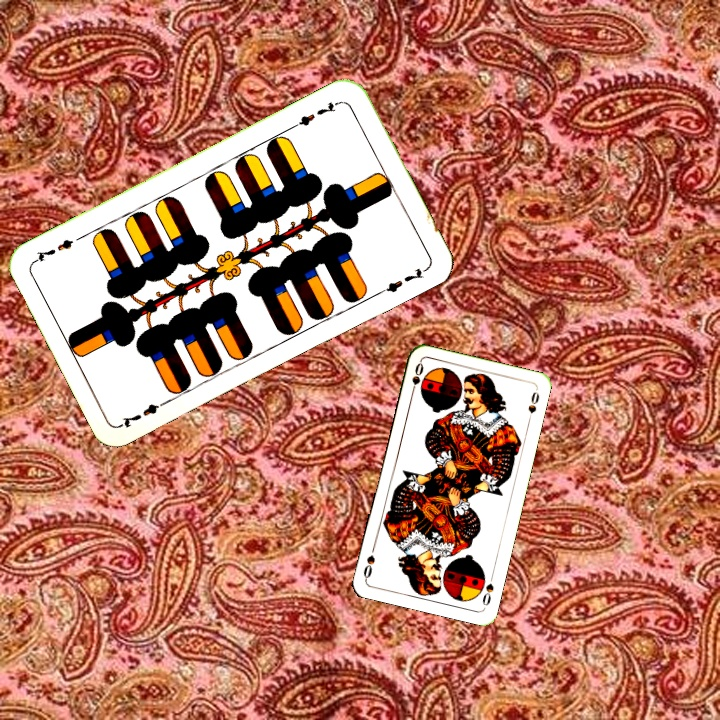E7: (117, 396, 172, 431), (288, 97, 343, 131)
SO: (407, 359, 426, 399), (478, 570, 497, 609)
